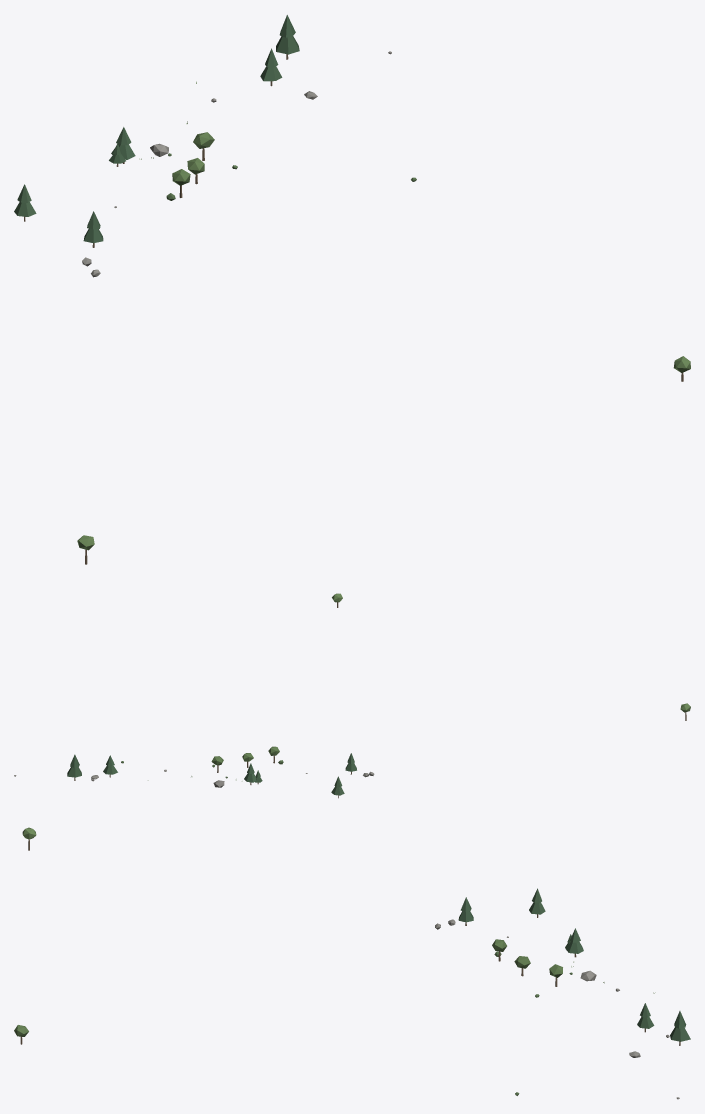
File: arch_land_scatter_c19_19_lod1.glb
3 views of the same model, one above another, from view 1: azimuth 30°, elevation 25°; view 2: azimuth 150°, elevation 25°; view 3: azimuth 270°, elevation 25° (orthographic). The views are drawn at different scales.
Visible parts, largest first — view 1: arch_land_scatter_c19_19_lod1; view 2: arch_land_scatter_c19_19_lod1; view 3: arch_land_scatter_c19_19_lod1.
Boxes of the visible parts, x1,y1,x2,y2 form: arch_land_scatter_c19_19_lod1: (14,15,690,564); arch_land_scatter_c19_19_lod1: (14,593,690,798); arch_land_scatter_c19_19_lod1: (14,827,690,1099).
Size of the model in its own units: 246 by 31.4 by 252.
